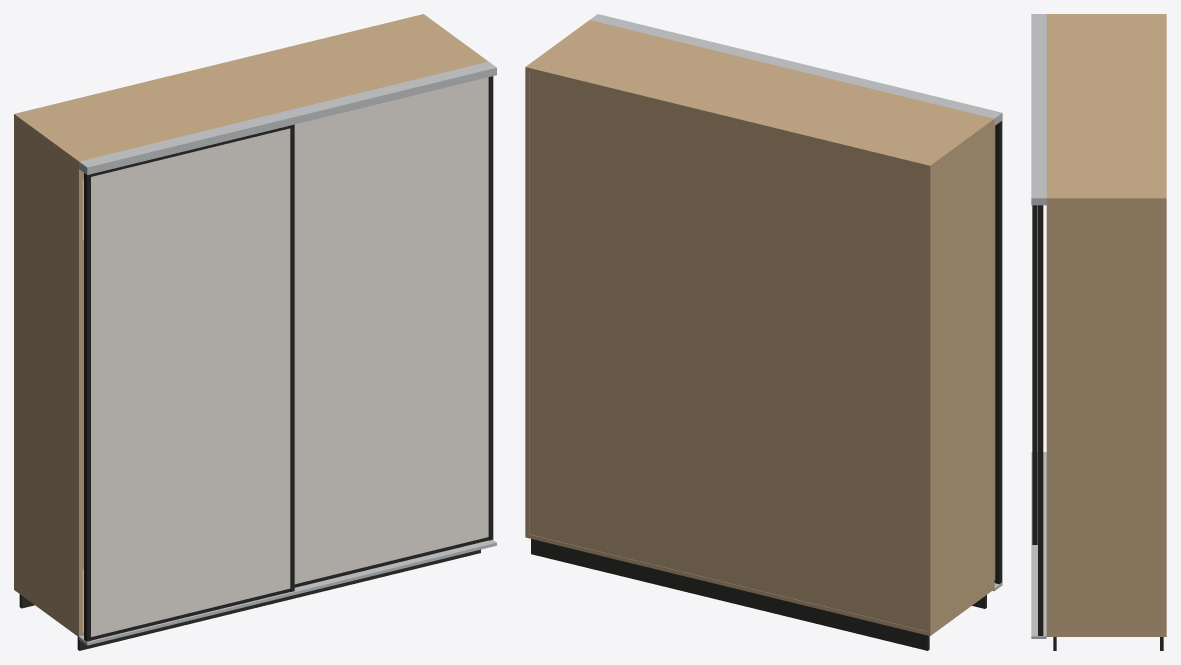
File: 11_szafa_przesuwna_200.glb
3 views of the same model, side by side, from view 1: azimuth 30°, elevation 25°; view 2: azimuth 150°, elevation 25°; view 3: azimuth 270°, elevation 25° (orthographic). The views are drawn at different scales.
Parts seen in each view (by area): view 1: Front_panel_1, Front_panel_2, Korpus, Uchwyty, Prowadnice, Cokol; view 2: Korpus, Cokol, Uchwyty, Prowadnice, Front_panel_1; view 3: Korpus, Prowadnice, Uchwyty.
Part boxes in pixels (left/top/right/bottom): Front_panel_1: left=91, top=128, right=290, bottom=636; Front_panel_2: left=294, top=77, right=488, bottom=584; Korpus: left=14, top=14, right=488, bottom=636; Uchwyty: left=84, top=76, right=493, bottom=641; Prowadnice: left=79, top=61, right=496, bottom=645; Cokol: left=19, top=549, right=480, bottom=650; Korpus: left=525, top=20, right=994, bottom=635; Cokol: left=531, top=539, right=986, bottom=650; Uchwyty: left=994, top=121, right=1002, bottom=584; Prowadnice: left=590, top=14, right=1002, bottom=591; Front_panel_1: left=994, top=126, right=995, bottom=579; Korpus: left=1046, top=14, right=1166, bottom=636; Prowadnice: left=1031, top=14, right=1046, bottom=638; Uchwyty: left=1032, top=205, right=1043, bottom=635.
Size of the model in its own units: 2 by 2.3 by 0.62.
